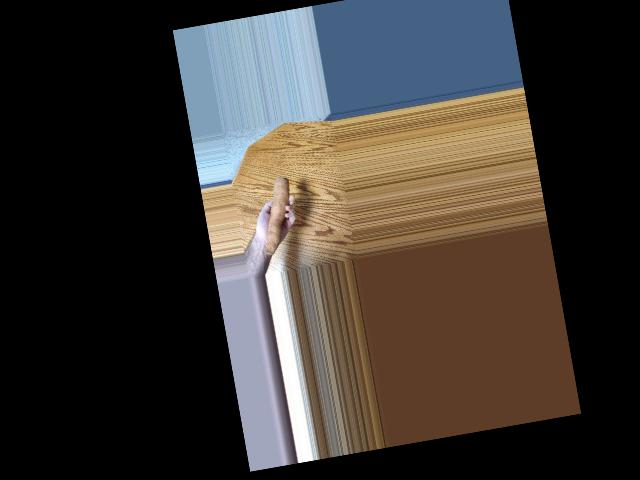sweet_potato: (253, 174, 301, 254)
